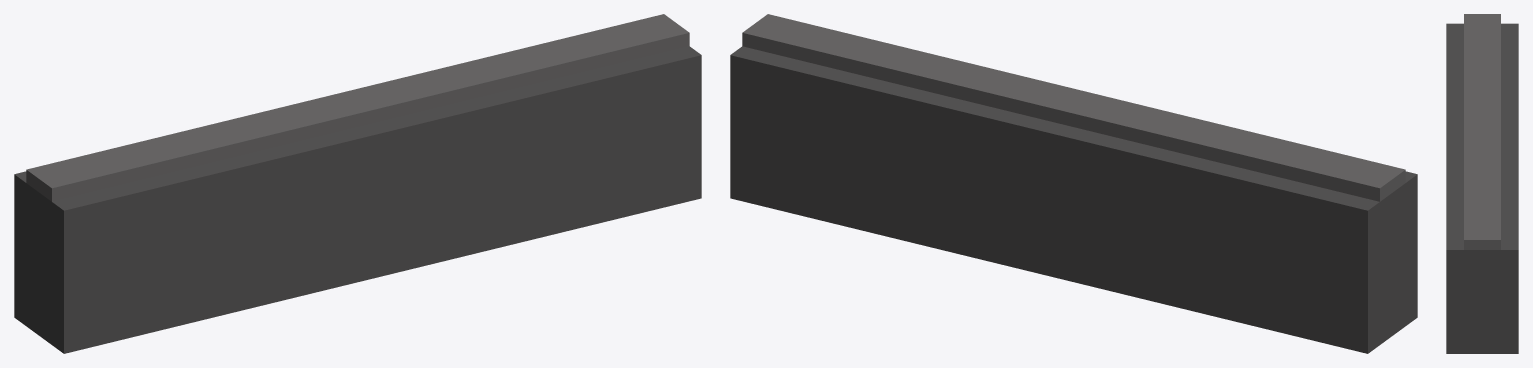
File: ConcreteBarrier_1.fbx
3 views of the same model, side by side, from view 1: azimuth 30°, elevation 25°; view 2: azimuth 150°, elevation 25°; view 3: azimuth 270°, elevation 25° (orthographic). The views are drawn at different scales.
Parts seen in each view (by area): view 1: ConcreteBarrier_1; view 2: ConcreteBarrier_1; view 3: ConcreteBarrier_1.
Boxes of the visible parts, x1,y1,x2,y2 form: ConcreteBarrier_1: (14,14,701,353); ConcreteBarrier_1: (730,14,1417,353); ConcreteBarrier_1: (1446,14,1518,353).
Bounding box in the file's own units: 588 × 138 × 79.57.
